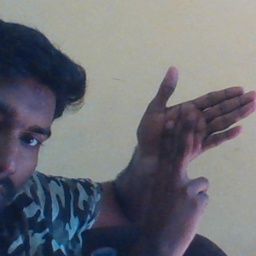N: (128, 63, 256, 230)
